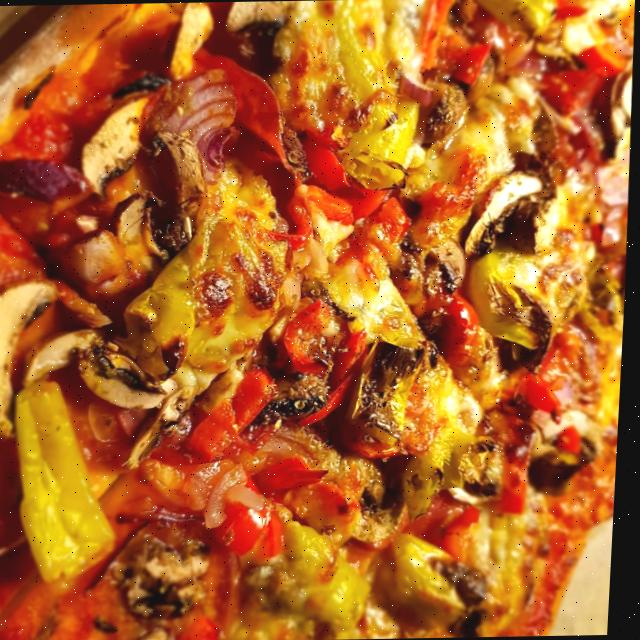mushrooms: (0, 281, 58, 435), (462, 172, 541, 255), (81, 99, 148, 194), (82, 342, 170, 414), (124, 550, 212, 618), (25, 326, 95, 390), (113, 204, 190, 258), (159, 132, 206, 217), (163, 2, 209, 85), (227, 1, 289, 58), (429, 238, 464, 295), (606, 78, 626, 158), (616, 59, 634, 124)
pizza: (0, 0, 640, 640)
